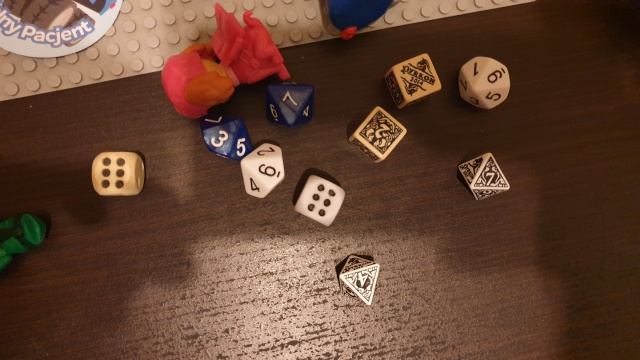d10-3: (197, 109, 251, 163)
d10-6: (232, 140, 290, 203)
d10-7: (262, 76, 320, 131)
d10-9: (449, 47, 519, 115)
d6-6: (294, 174, 348, 229), (88, 149, 147, 198)
d6p-1: (382, 52, 451, 107)
d6p-2: (348, 107, 411, 164)
d8p-4: (331, 251, 387, 311)
d8p-7: (452, 146, 515, 205)
